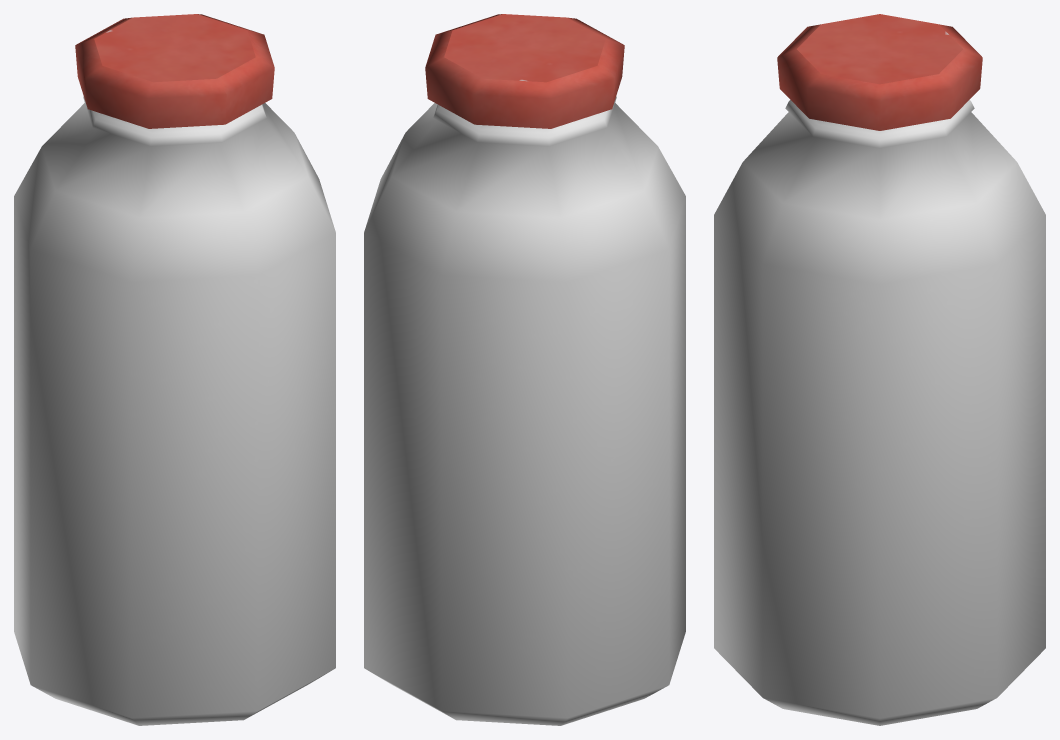
The model's file is milk bottle.fbx.
The picture shows the model from 3 angles, left to right: view 1: azimuth 30°, elevation 25°; view 2: azimuth 150°, elevation 25°; view 3: azimuth 270°, elevation 25°; orthographic projection.
Parts seen in each view (by area): view 1: Cylinder; view 2: Cylinder; view 3: Cylinder.
Part boxes in pixels (x1,y1,x2,y2): Cylinder: (14, 14, 335, 725); Cylinder: (364, 14, 685, 725); Cylinder: (714, 14, 1045, 725).
Bounding box in the file's own units: 12.53 × 25.79 × 12.53.
